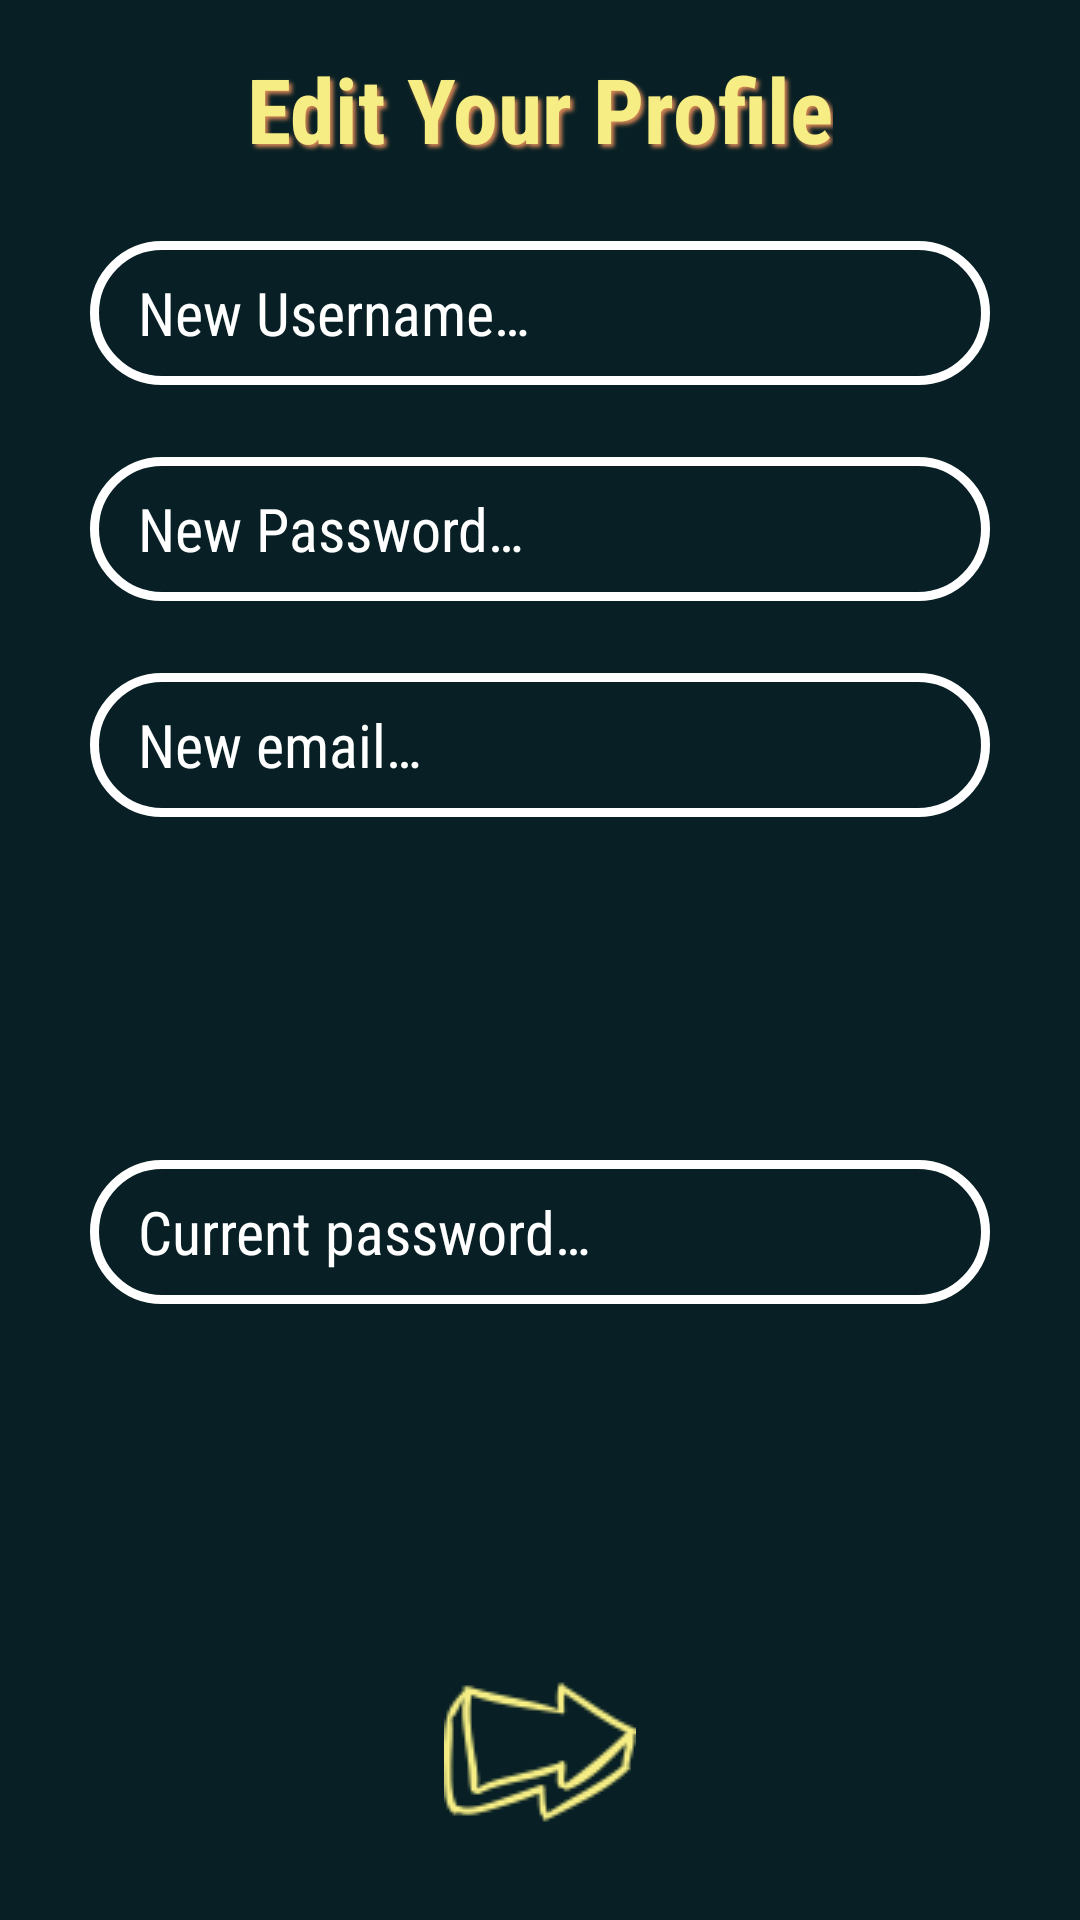

Icons on this 1080*1920 Android screen, each with its box as (x1, y1, x2, y2):
Submit changed details: (444, 1682, 636, 1822)
